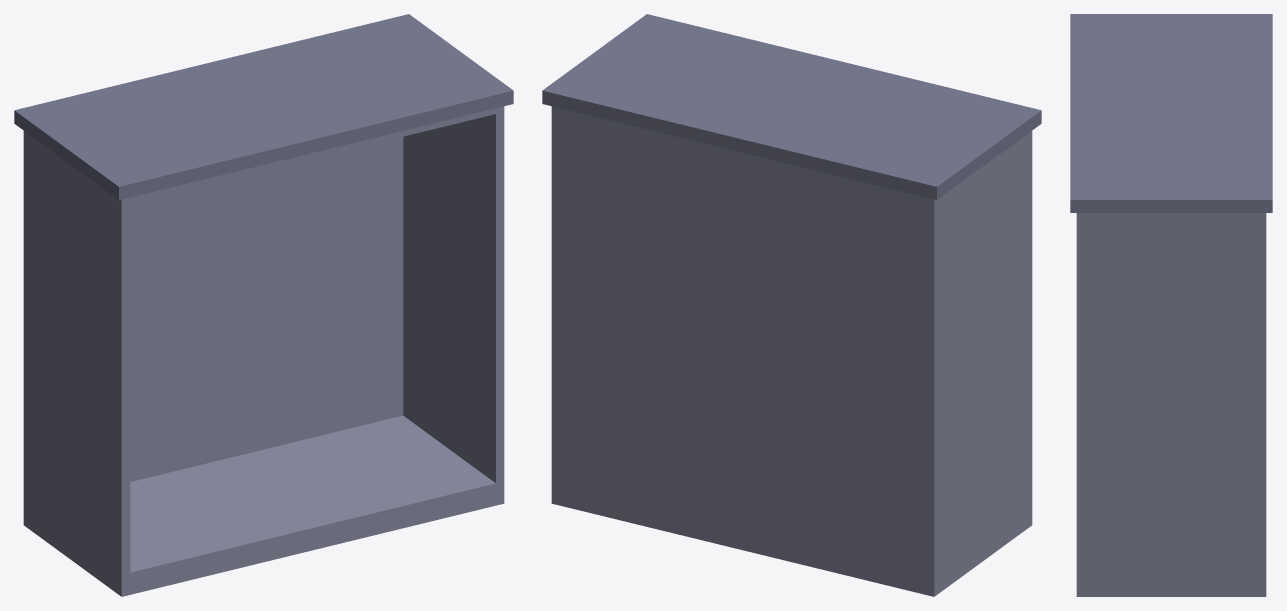
File: Dresser4_C2.fbx
The picture shows the model from 3 angles, left to right: view 1: azimuth 30°, elevation 25°; view 2: azimuth 150°, elevation 25°; view 3: azimuth 270°, elevation 25°; orthographic projection. The views are drawn at different scales.
Visible parts, largest first — view 1: Dresser4_C2; view 2: Dresser4_C2; view 3: Dresser4_C2.
Boxes of the visible parts, bbox=[...] form: Dresser4_C2: bbox=[14, 14, 513, 596]; Dresser4_C2: bbox=[542, 14, 1041, 596]; Dresser4_C2: bbox=[1070, 14, 1272, 596].
Size of the model in its own units: 92.81 by 93 by 42.63.
